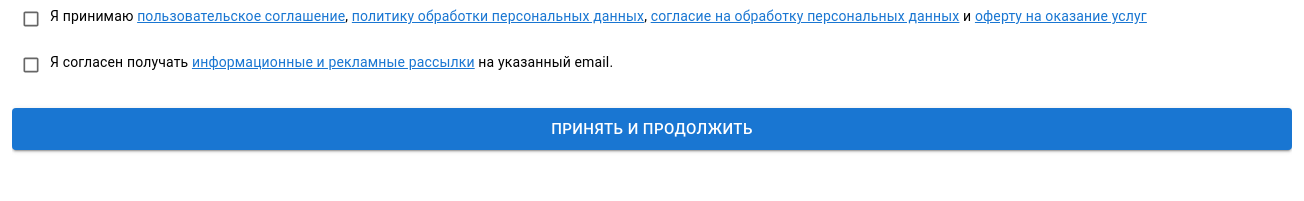
Test: ConsentsOnboardingForm › rejects submit until required checkbox is checked
Click the button "Принять и продолжить" at (652, 129), box [12, 108, 1292, 150]
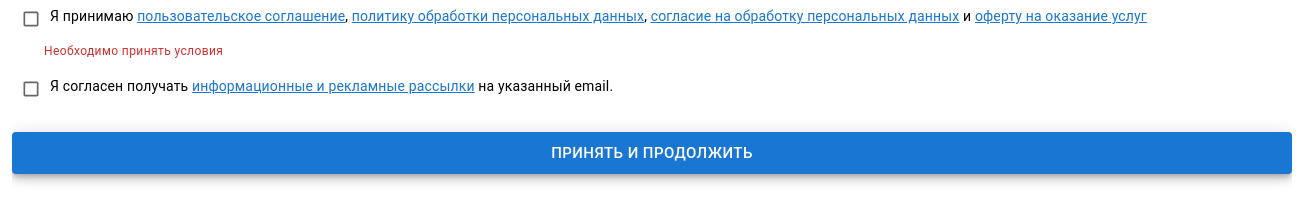
Expected: the text "Необходимо принять условия" is shown, [44, 44, 223, 58]
